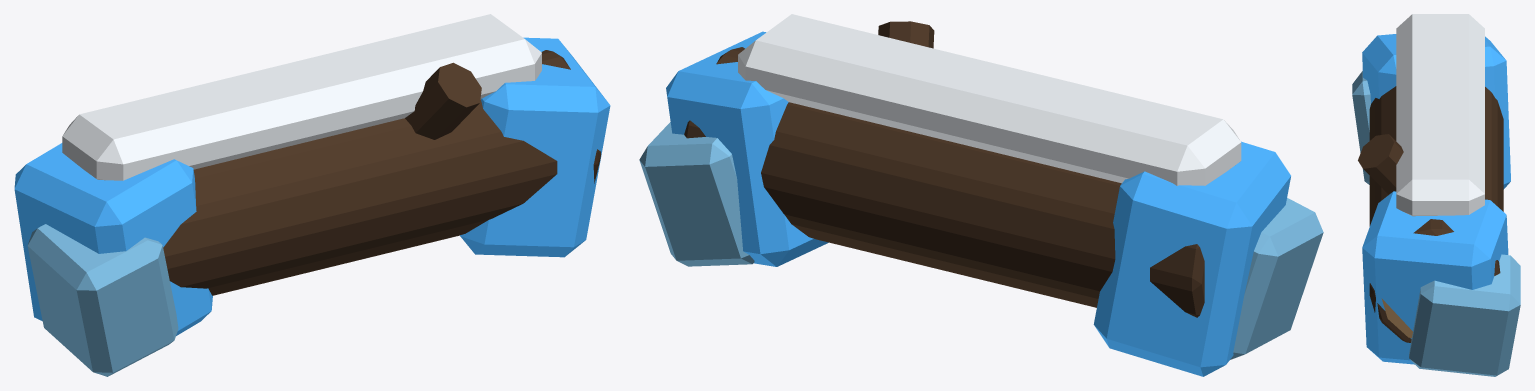
File: Tundra_Obs_IceLog.fbx
The picture shows the model from 3 angles, left to right: view 1: azimuth 30°, elevation 25°; view 2: azimuth 150°, elevation 25°; view 3: azimuth 270°, elevation 25°; orthographic projection. The views are drawn at different scales.
Visible parts, largest first — view 1: Tundra_Obs_IceLog; view 2: Tundra_Obs_IceLog; view 3: Tundra_Obs_IceLog.
Boxes of the visible parts, bbox=[...] form: Tundra_Obs_IceLog: bbox=[14, 14, 610, 376]; Tundra_Obs_IceLog: bbox=[639, 14, 1323, 376]; Tundra_Obs_IceLog: bbox=[1352, 14, 1520, 376].
Size of the model in its own units: 2.69 by 1 by 0.835.
